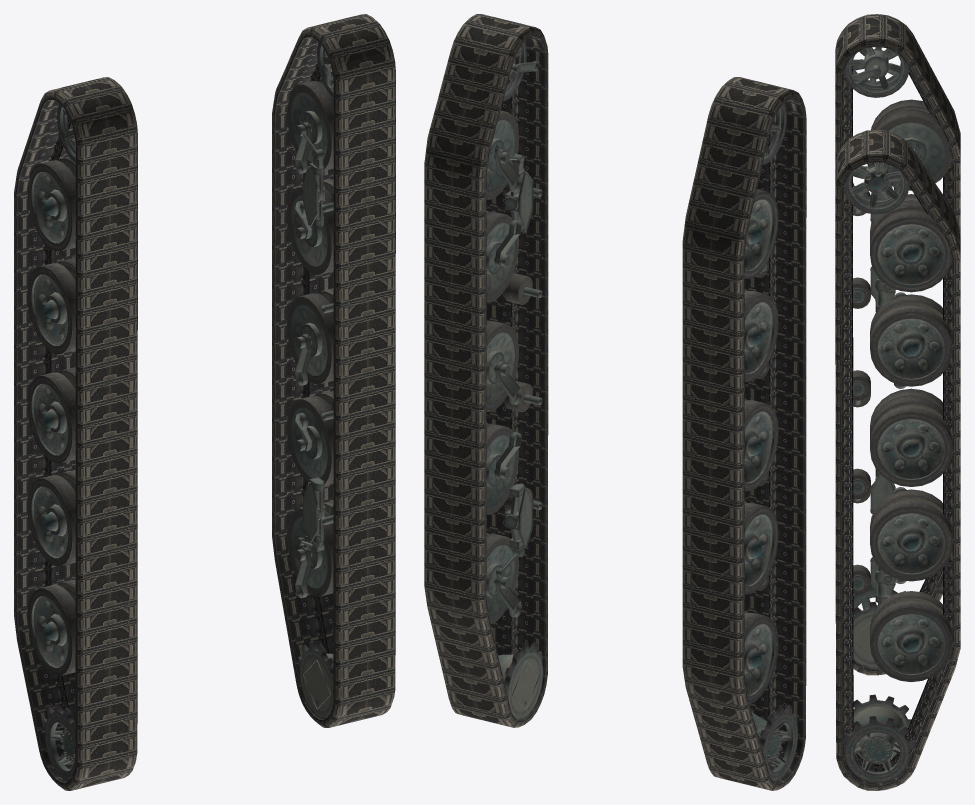
File: Chassis.glb
3 views of the same model, side by side, from view 1: azimuth 30°, elevation 25°; view 2: azimuth 150°, elevation 25°; view 3: azimuth 270°, elevation 25° (orthographic). The views are drawn at different scales.
Parts seen in each view (by area): view 1: set_0_group_0, set_1_group_0, set_3_group_0, set_2_group_0; view 2: set_0_group_0, set_1_group_0, set_3_group_0, set_2_group_0; view 3: set_3_group_0, set_1_group_0, set_2_group_0, set_0_group_0.
Part boxes in pixels (<box>): set_0_group_0: <box>14,77,137,790</box>; set_1_group_0: <box>272,14,395,727</box>; set_3_group_0: <box>287,42,333,719</box>; set_2_group_0: <box>27,104,75,781</box>; set_0_group_0: <box>682,77,806,790</box>; set_1_group_0: <box>424,14,548,727</box>; set_3_group_0: <box>486,42,543,719</box>; set_2_group_0: <box>744,103,797,781</box>; set_3_group_0: <box>844,162,952,782</box>; set_1_group_0: <box>835,129,960,790</box>; set_2_group_0: <box>844,47,951,668</box>; set_0_group_0: <box>835,14,960,675</box>.
Size of the model in its own units: 3.05 by 6.38 by 1.14.
Materials: 4 (4 with a texture image).
